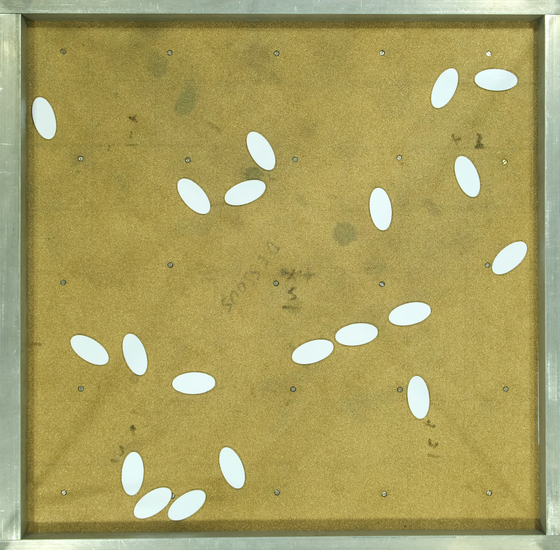pallet: (66, 328, 109, 372), (131, 479, 174, 523), (211, 445, 254, 489), (109, 451, 152, 495), (171, 360, 214, 404), (113, 333, 156, 377), (222, 174, 265, 218), (173, 176, 216, 220), (168, 482, 211, 526), (359, 185, 402, 229), (485, 234, 528, 278), (389, 289, 432, 333), (335, 313, 378, 357), (395, 375, 438, 419), (290, 329, 333, 373), (473, 58, 516, 102), (422, 66, 465, 110), (444, 155, 487, 199), (238, 129, 281, 173), (22, 97, 65, 141)
